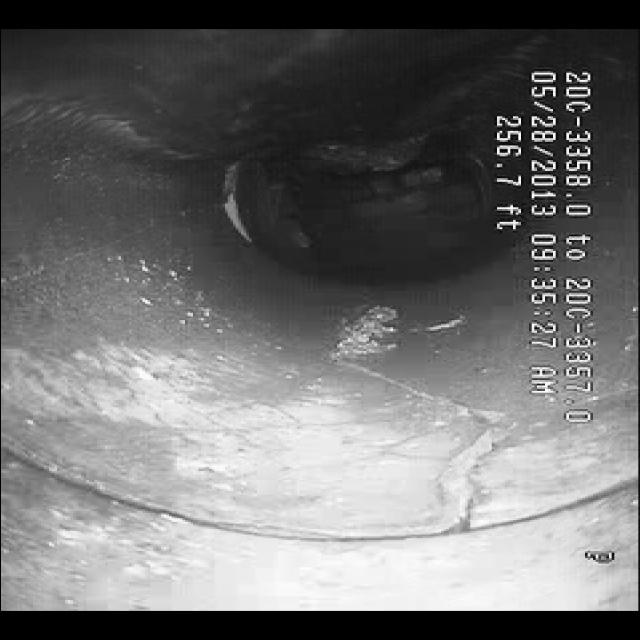Fracture: (290, 364, 528, 546)
